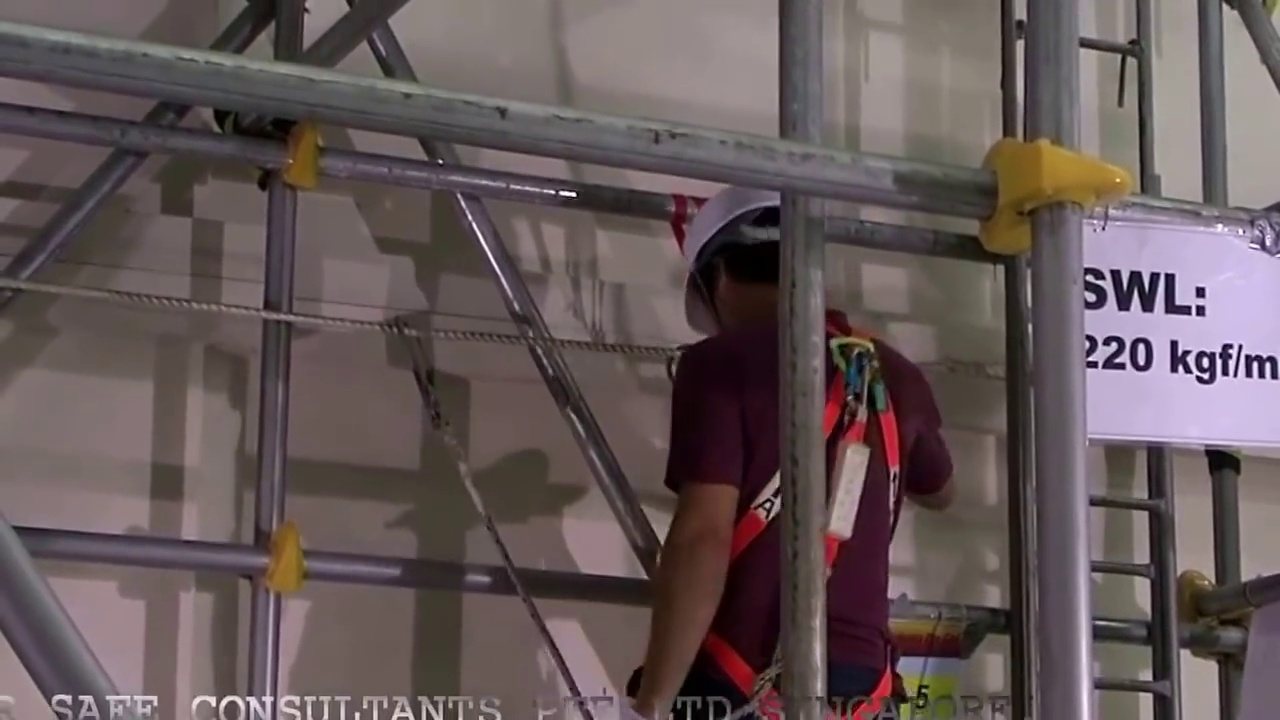harness: (728, 330, 898, 720)
helmet: (683, 188, 780, 289)
hook: (379, 318, 446, 412)
leash: (430, 424, 589, 695)
